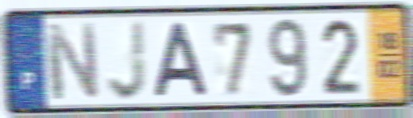2: (319, 16, 364, 98)
7: (210, 19, 255, 98)
9: (264, 16, 310, 100)
A: (151, 20, 211, 100)
J: (104, 18, 149, 103)
N: (43, 20, 102, 103)
